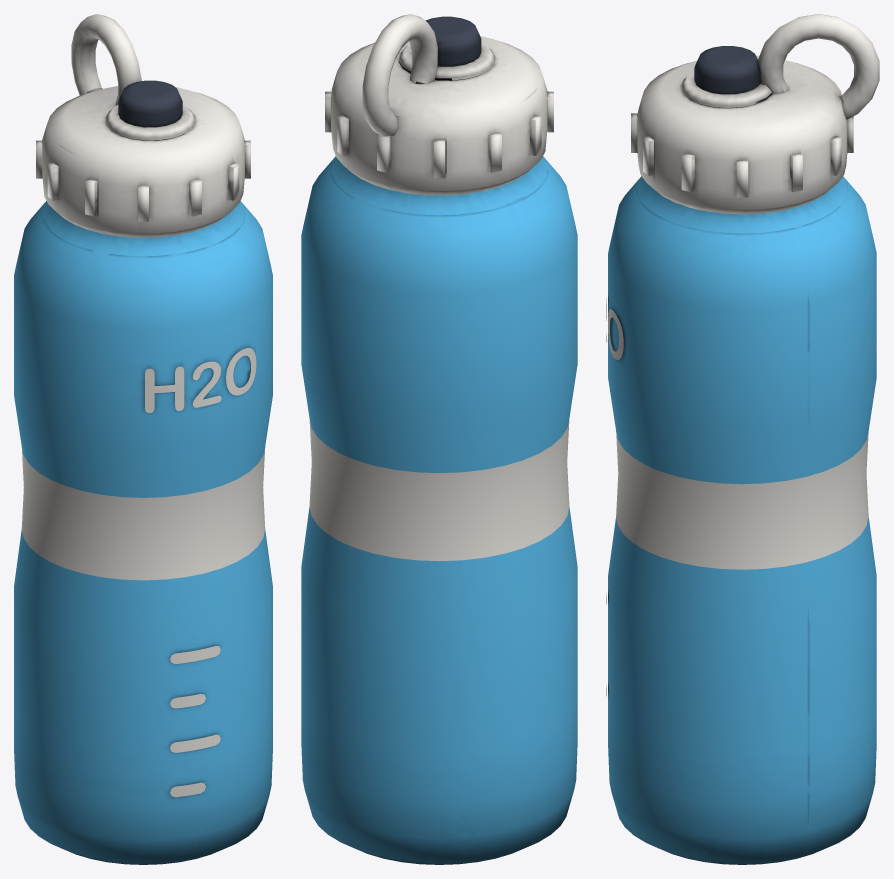
The model's file is water_bottle.glb.
3 views of the same model, side by side, from view 1: azimuth 30°, elevation 25°; view 2: azimuth 150°, elevation 25°; view 3: azimuth 270°, elevation 25° (orthographic). The views are drawn at different scales.
Parts seen in each view (by area): view 1: water_bottle; view 2: water_bottle; view 3: water_bottle.
Boxes of the visible parts, <box> form: water_bottle: <box>14,14,272,864</box>; water_bottle: <box>301,14,577,864</box>; water_bottle: <box>606,14,879,864</box>.
Size of the model in its own units: 0.074 by 0.2446 by 0.0753.
Materials: 3 (3 with a texture image).
